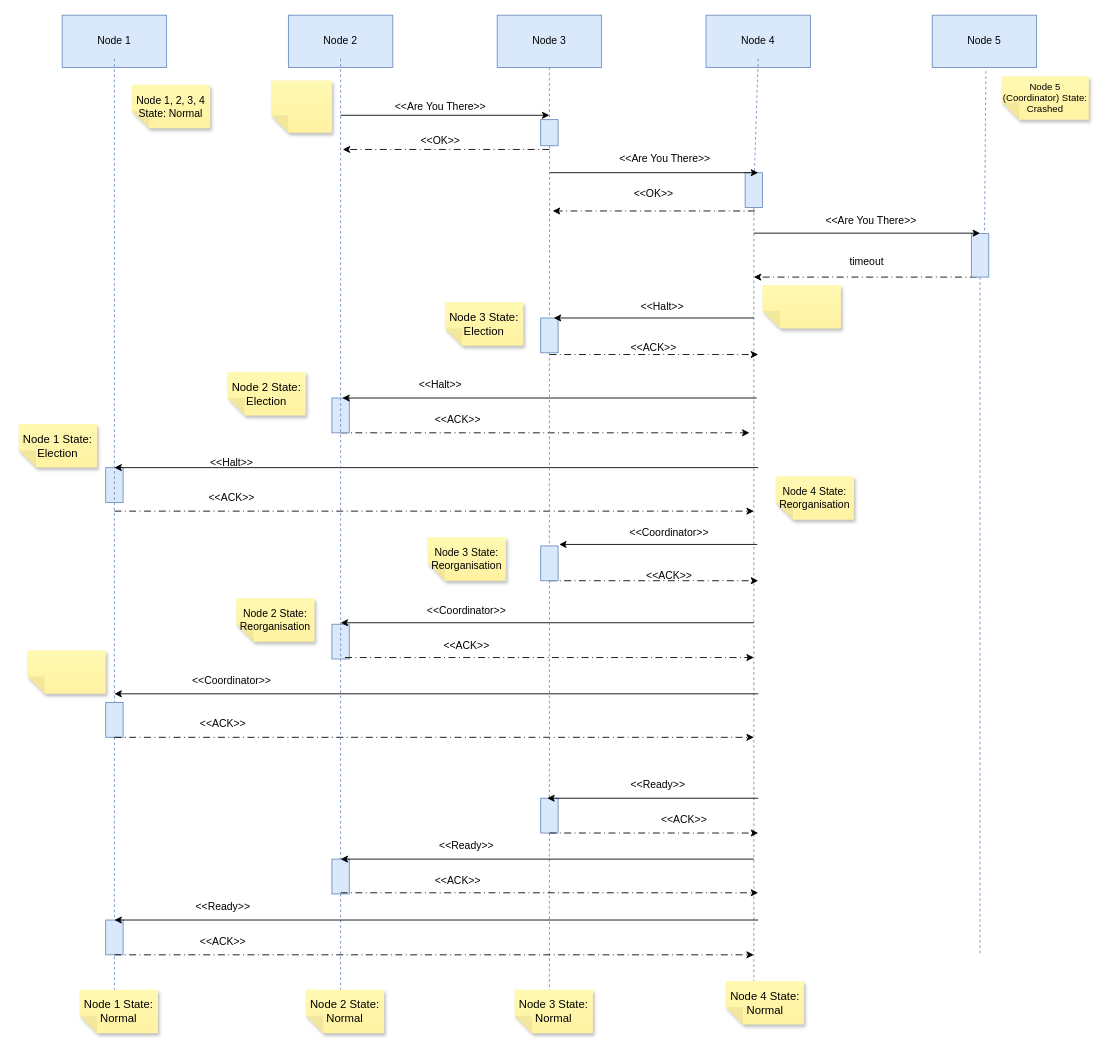
The diagram is 1108 pixels wide and 1054 high, and some of its shapes have lost their labels. The shapes that lost their labels are listed below. From the top down, each one's centre as x and y in pixels, then its label:
point 302,107: Notices coordinator has gone down
point 802,307: Node 4 State: Election
point 66,672: Node 1 State: Reorganisation
